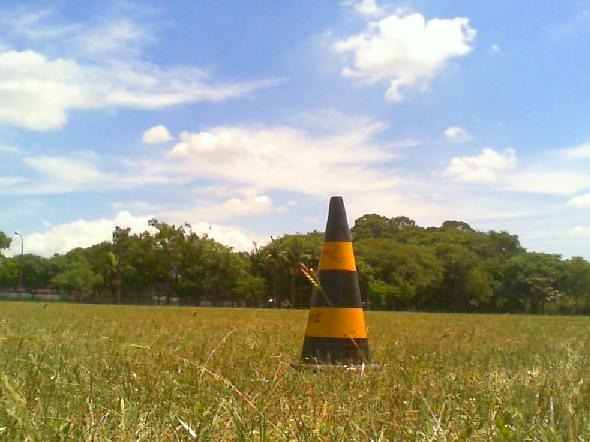0 cone: (294, 197, 379, 369)
